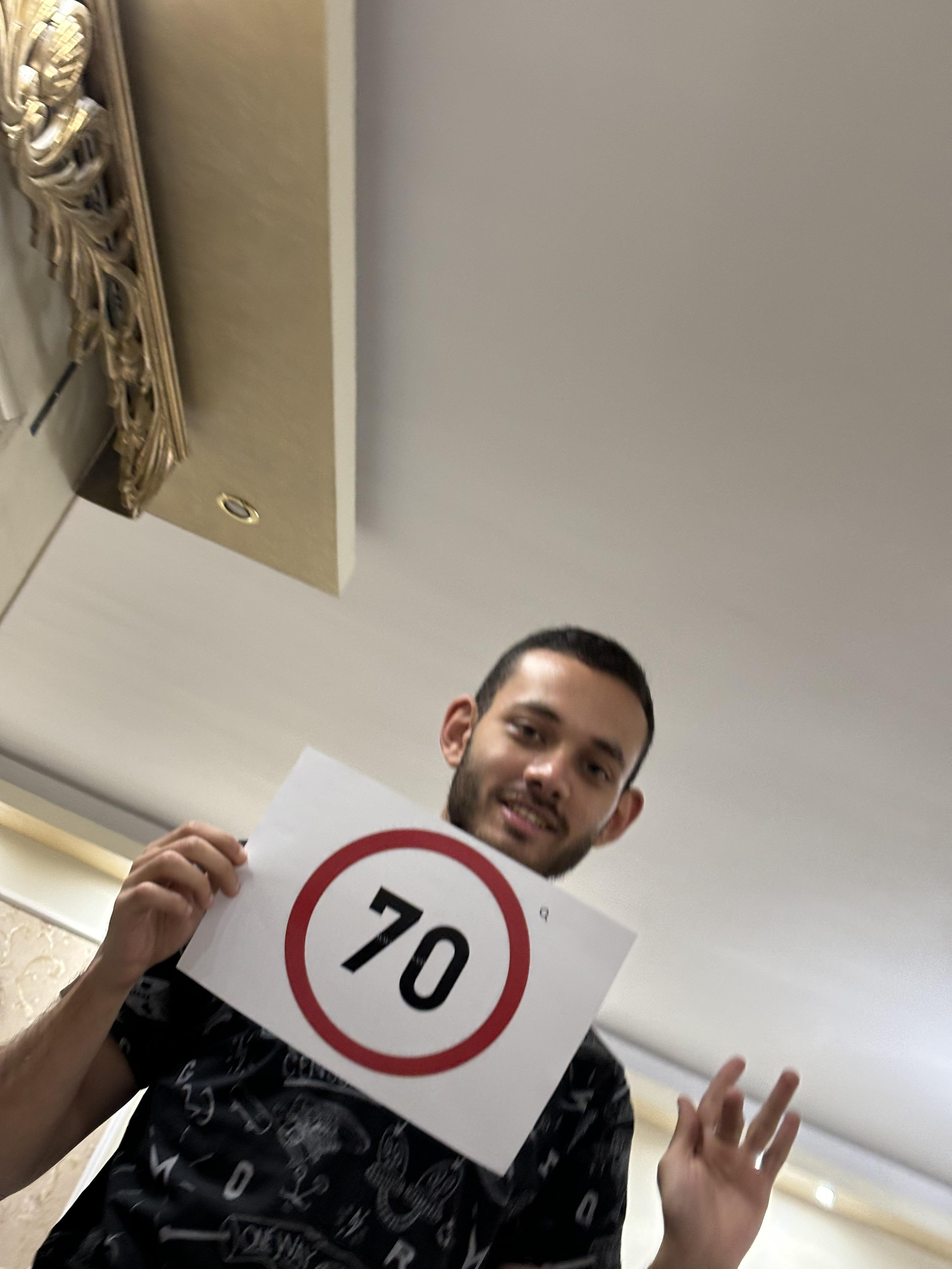70-Speed: (286, 825, 533, 1082)
